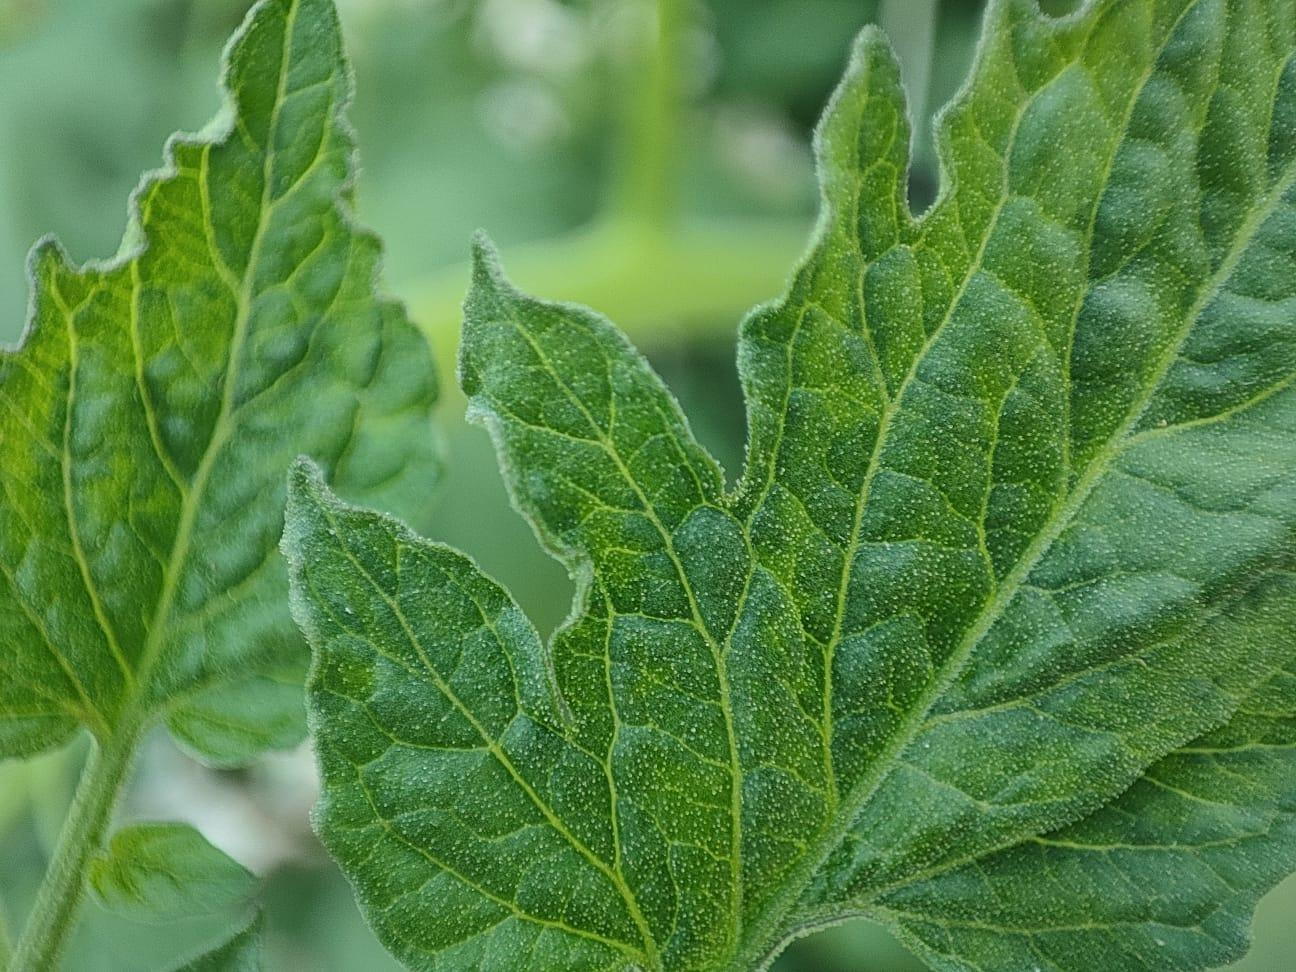Rugose leaf: (284, 2, 1295, 967), (0, 2, 438, 759)
Rugose stem: (10, 736, 137, 970)
